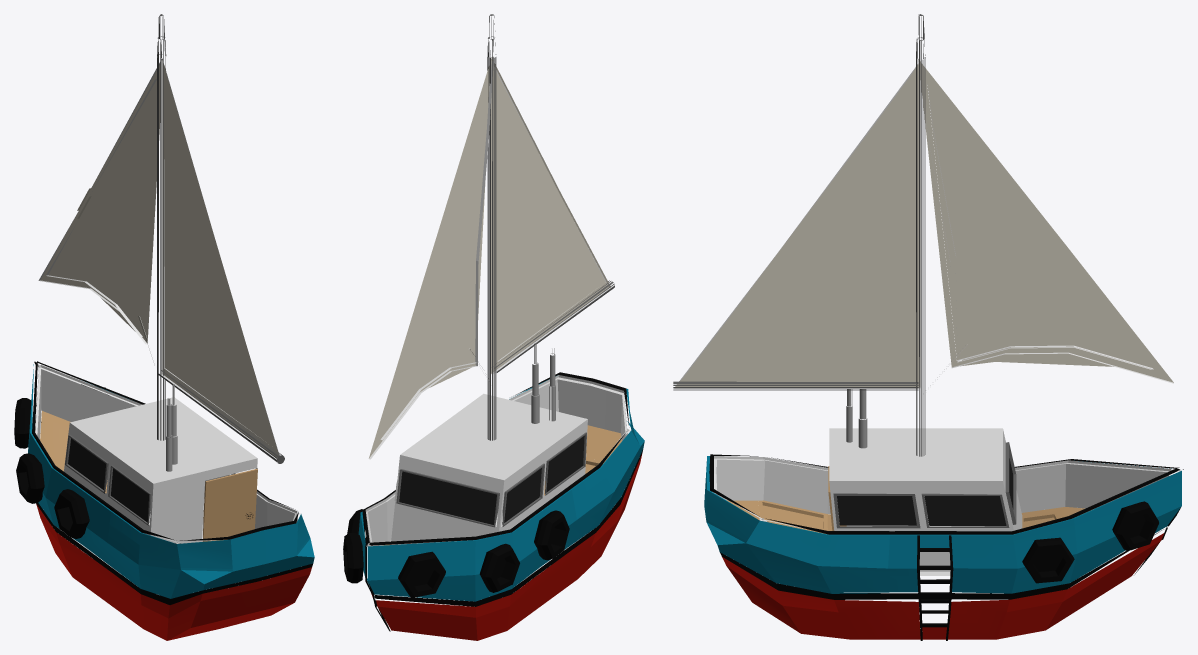
File: sailboat.glb
3 views of the same model, side by side, from view 1: azimuth 30°, elevation 25°; view 2: azimuth 150°, elevation 25°; view 3: azimuth 270°, elevation 25° (orthographic). The views are drawn at different scales.
Parts seen in each view (by area): view 1: Sphere_Sails_0, Sphere_Default_0, Sphere_Cyan_0, Sphere_Red_0, Sphere_Black_0, Sphere_Floor_0, Sphere_Sail Stick_0, Sphere_Window_0, Sphere_Light Grey_0, Sphere_Antenna_0; view 2: Sphere_Sails_0, Sphere_Default_0, Sphere_Cyan_0, Sphere_Black_0, Sphere_Red_0, Sphere_Window_0, Sphere_Sail Stick_0, Sphere_Light Grey_0, Sphere_Floor_0, Sphere_Antenna_0; view 3: Sphere_Sails_0, Sphere_Default_0, Sphere_Cyan_0, Sphere_Red_0, Sphere_Black_0, Sphere_Sail Stick_0, Sphere_Window_0, Sphere_Floor_0, Sphere_Light Grey_0, Sphere_Antenna_0.
Boxes of the visible parts, x1,y1,x2,y2 form: Sphere_Sails_0: (41,60,279,457); Sphere_Default_0: (32,58,300,543); Sphere_Cyan_0: (28,364,314,598); Sphere_Red_0: (36,504,311,640); Sphere_Black_0: (14,316,313,604); Sphere_Floor_0: (40,411,257,541); Sphere_Sail Stick_0: (157,14,284,463); Sphere_Window_0: (68,438,149,522); Sphere_Light Grey_0: (65,434,257,525); Sphere_Antenna_0: (166,384,177,471); Sphere_Sails_0: (369,57,610,457); Sphere_Default_0: (364,56,630,546); Sphere_Cyan_0: (358,379,644,601); Sphere_Black_0: (343,349,643,631); Sphere_Red_0: (371,455,641,640); Sphere_Window_0: (399,436,584,524); Sphere_Sail Stick_0: (487,14,614,440); Sphere_Light Grey_0: (396,432,586,527); Sphere_Floor_0: (383,425,621,545); Sphere_Antenna_0: (531,343,555,423); Sphere_Sails_0: (675,59,1173,387); Sphere_Default_0: (674,59,1180,575); Sphere_Cyan_0: (704,456,1181,593); Sphere_Red_0: (722,533,1163,639); Sphere_Black_0: (709,454,1183,640); Sphere_Sail Stick_0: (673,14,925,456); Sphere_Window_0: (837,458,1013,525); Sphere_Floor_0: (726,466,1092,534); Sphere_Light Grey_0: (833,442,1016,528); Sphere_Antenna_0: (846,389,867,448).
Bounding box in the file's own units: 248 × 843 × 652.
